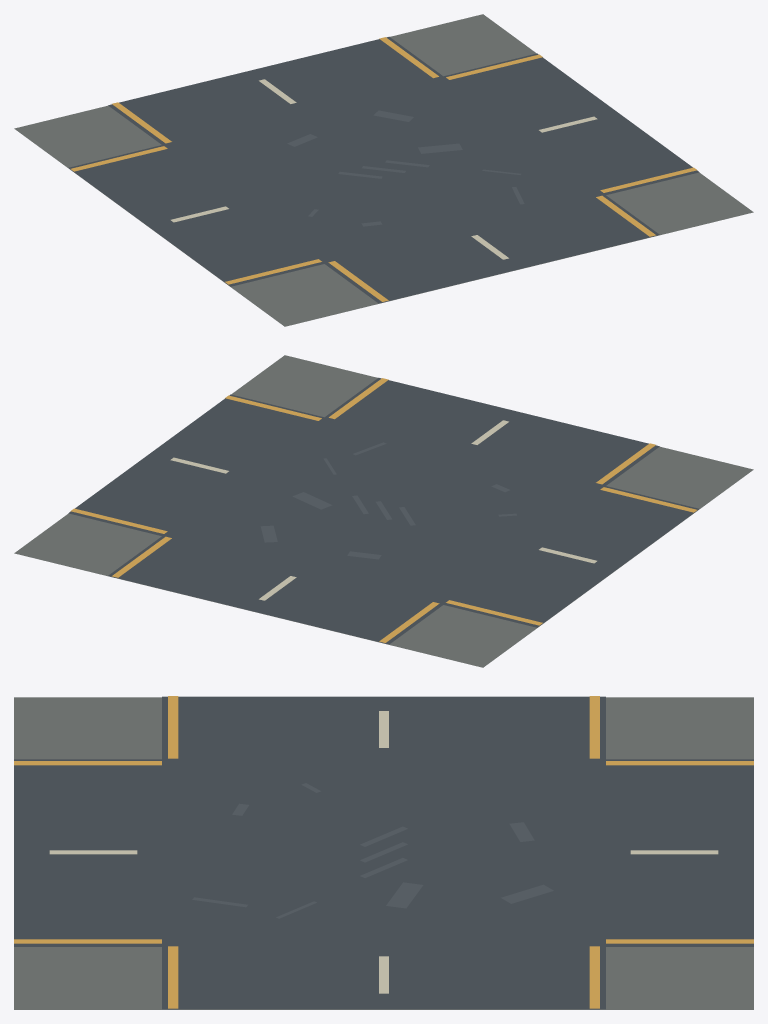
File: 06_Asphalt_Cross.fbx
3 renders of one model, top to bottom at view 1: azimuth 30°, elevation 25°; view 2: azimuth 150°, elevation 25°; view 3: azimuth 270°, elevation 25°, orthographic. The views are drawn at different scales.
Visible parts, largest first — view 1: 06_Asphalt_Cross; view 2: 06_Asphalt_Cross; view 3: 06_Asphalt_Cross.
Boxes of the visible parts, bbox=[...] form: 06_Asphalt_Cross: bbox=[14, 14, 753, 326]; 06_Asphalt_Cross: bbox=[14, 355, 753, 667]; 06_Asphalt_Cross: bbox=[14, 696, 753, 1009].
Size of the model in its own units: 800 by 1.6 by 800.
Materials: 1 (1 with a texture image).
